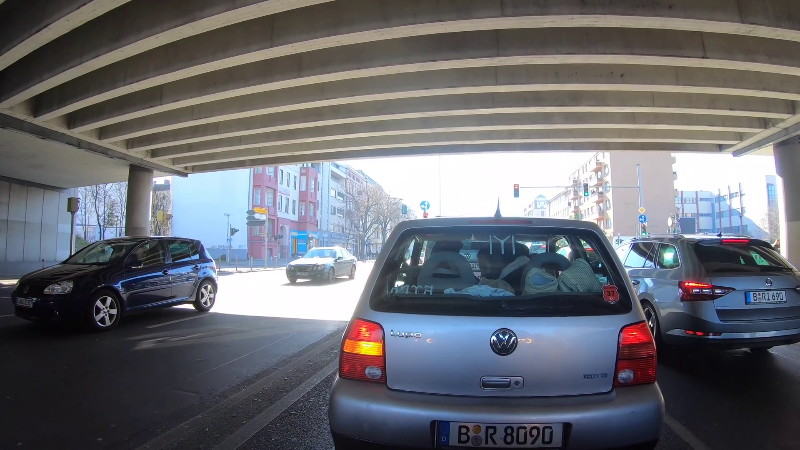Plate: (432, 419, 568, 450), (746, 287, 790, 307), (12, 295, 34, 308)
